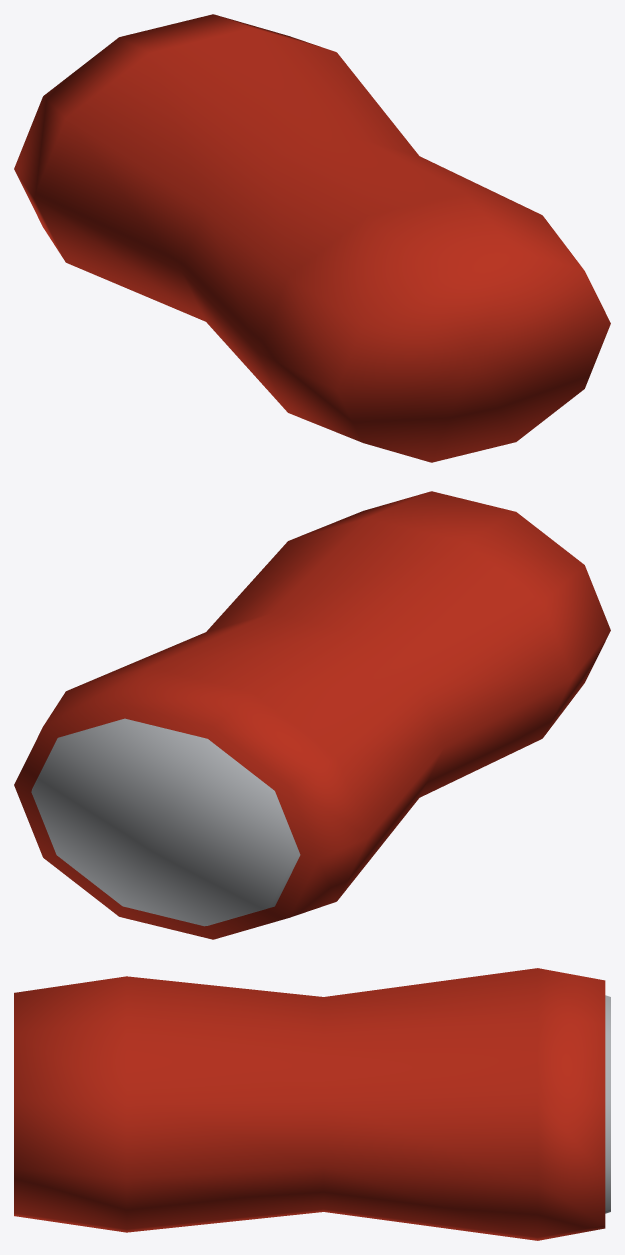
Rendered from smiec_puszka.glb.
3 views of the same model, one above another, from view 1: azimuth 30°, elevation 25°; view 2: azimuth 150°, elevation 25°; view 3: azimuth 270°, elevation 25° (orthographic). The views are drawn at different scales.
Parts seen in each view (by area): view 1: Puszka; view 2: Puszka; view 3: Puszka.
Part boxes in pixels (x1=…): Puszka: x1=14, y1=14, x2=610, y2=462; Puszka: x1=14, y1=491, x2=610, y2=939; Puszka: x1=14, y1=968, x2=610, y2=1240.
Bounding box in the file's own units: 0.066 × 0.0439 × 0.106.
